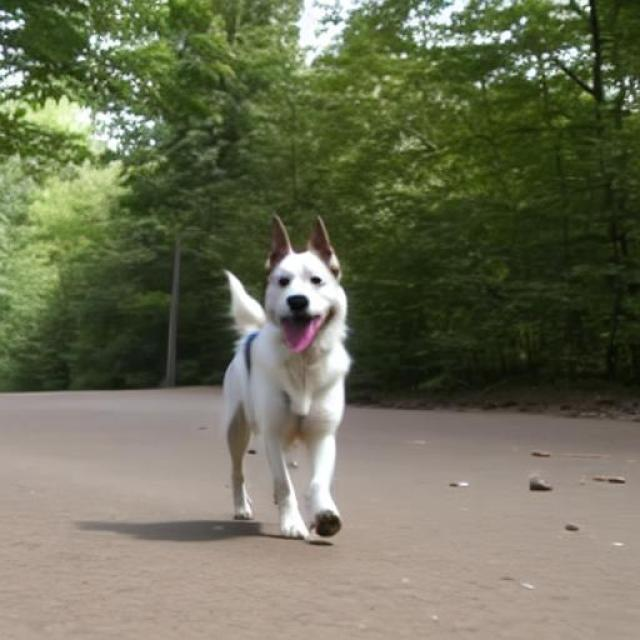Dog: (222, 215, 352, 540)
